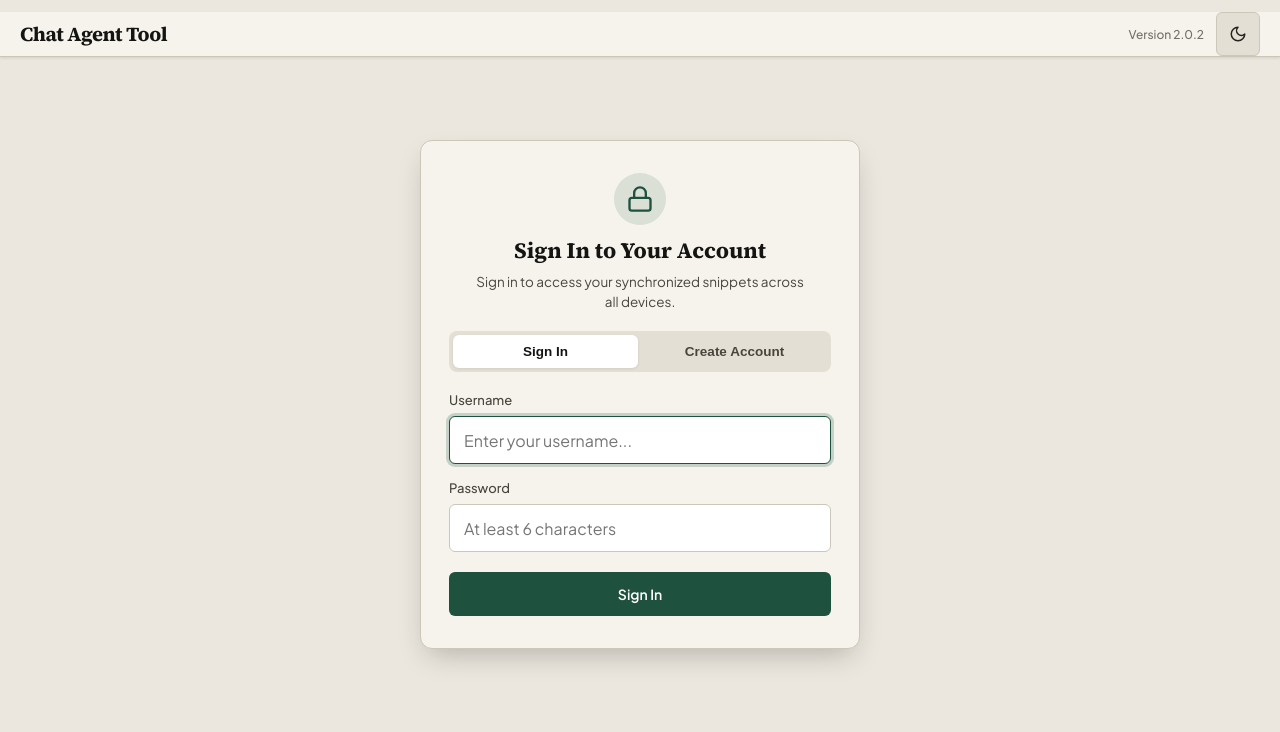
Test: Chat Agent Tool - Integration Tests › switches between Sign In and Create Account on the auth gate
What coordinates should you click on to do the following:
click the button "Create Account"
I would click on:
 (734, 352)
Its box is [642,335,827,368].
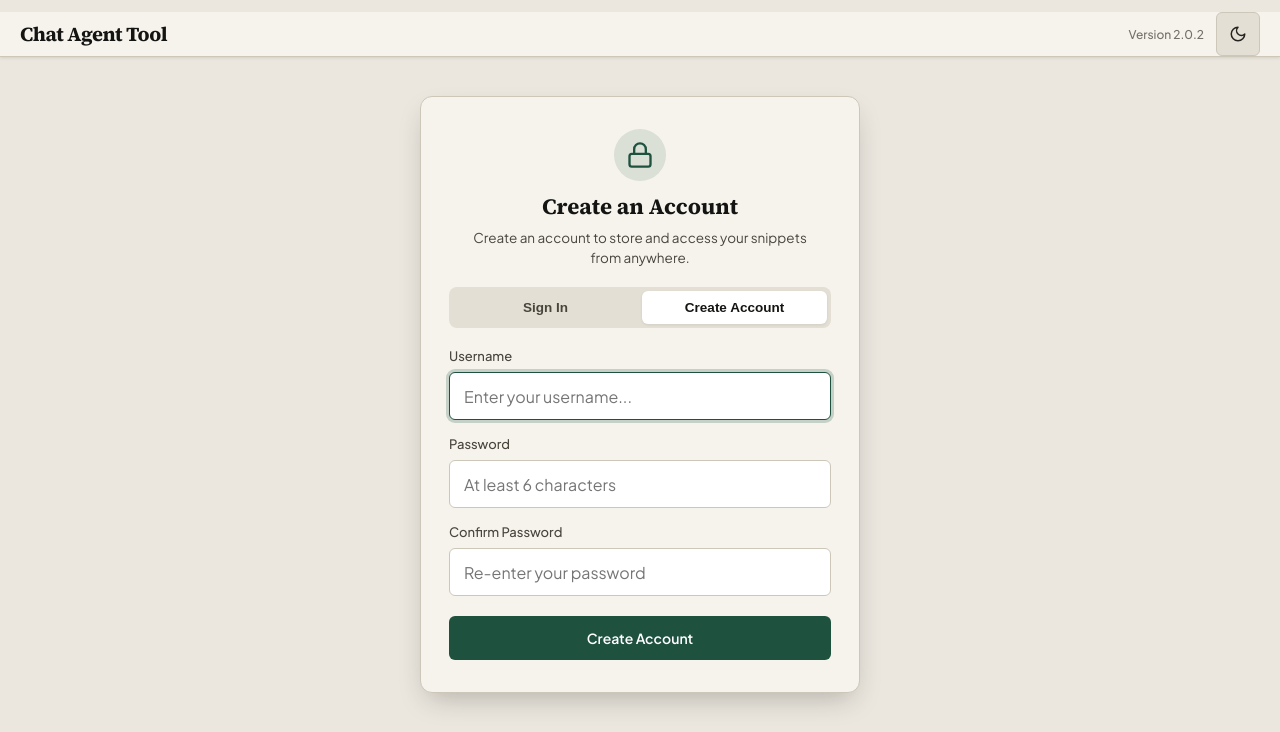
Result: the heading "Create an Account" is shown at [542,193,738,220]
Result: the password field labelled "Confirm Password" is shown at [449,548,831,596]
